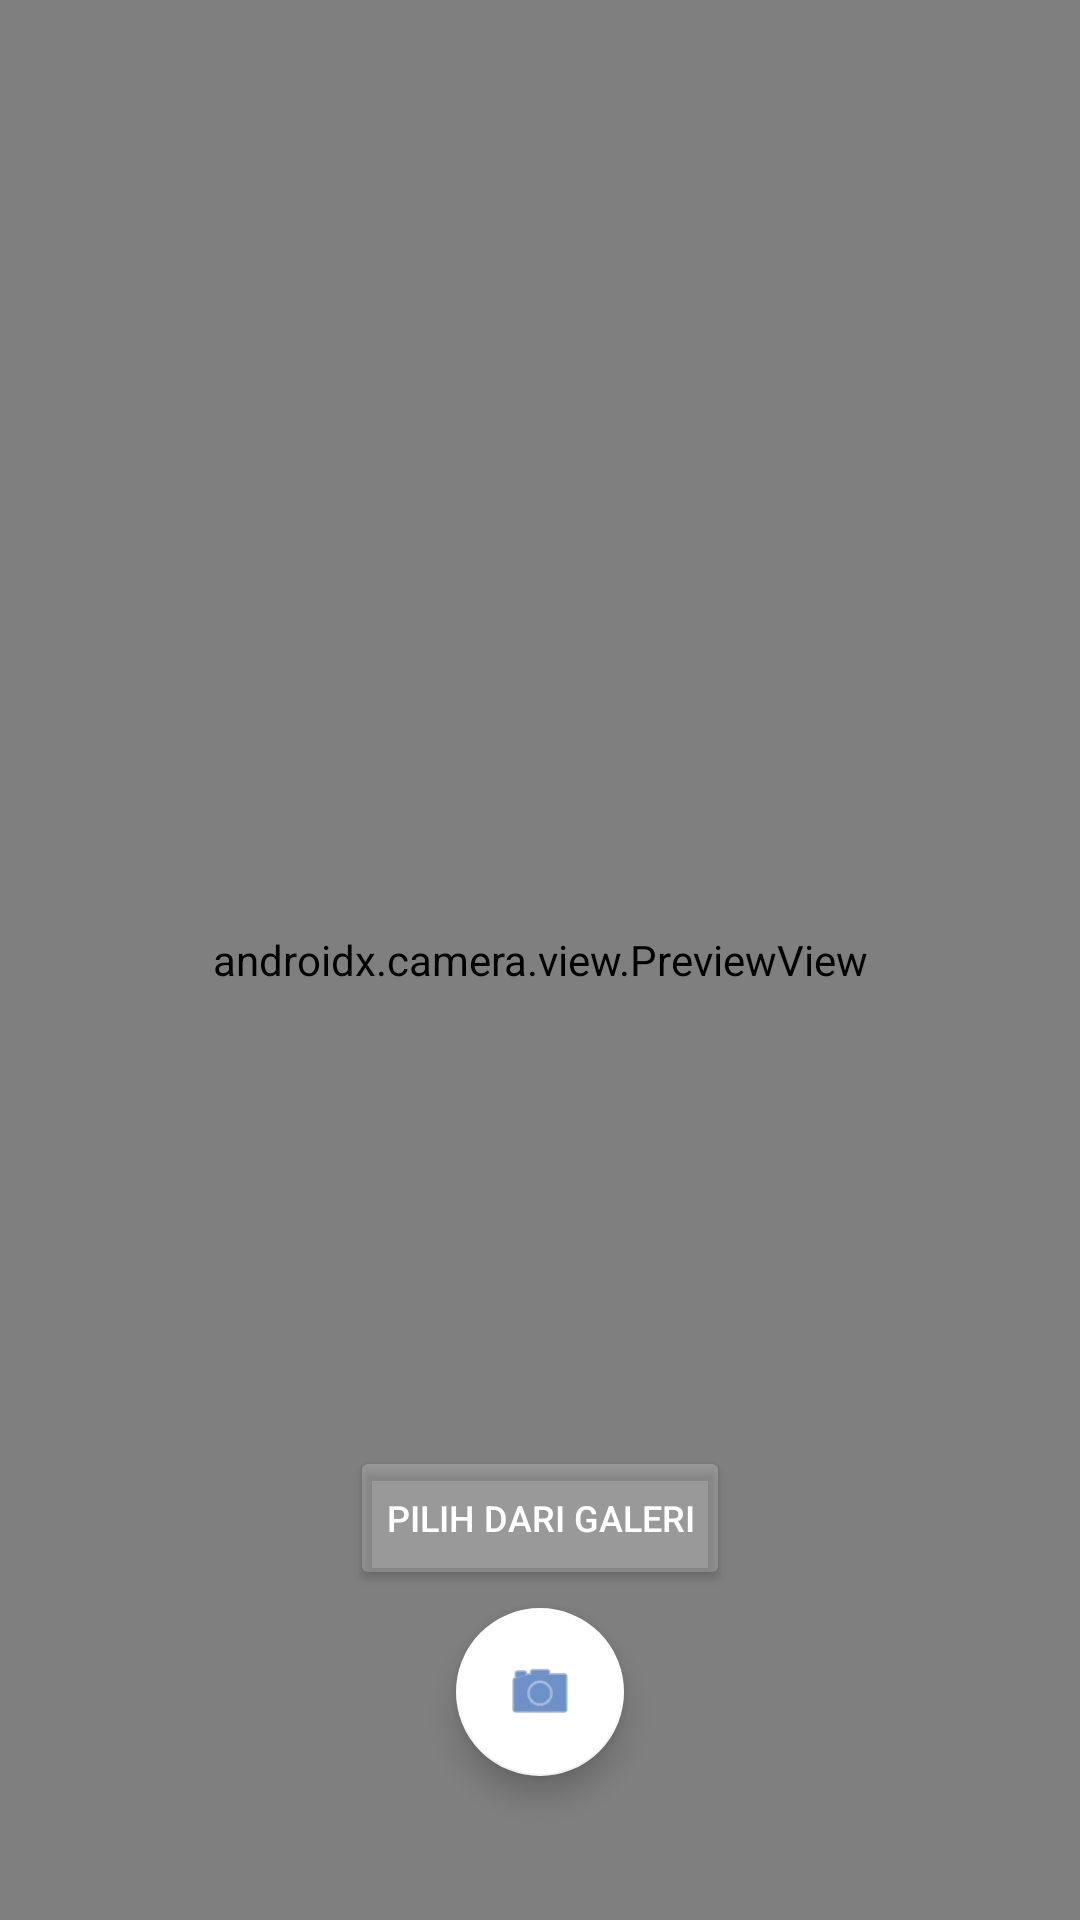

Where icons sit on this 1080px×1920px app screen, as (x1, y1, x2, y2):
Ambil Foto: (456, 1608, 624, 1776)
